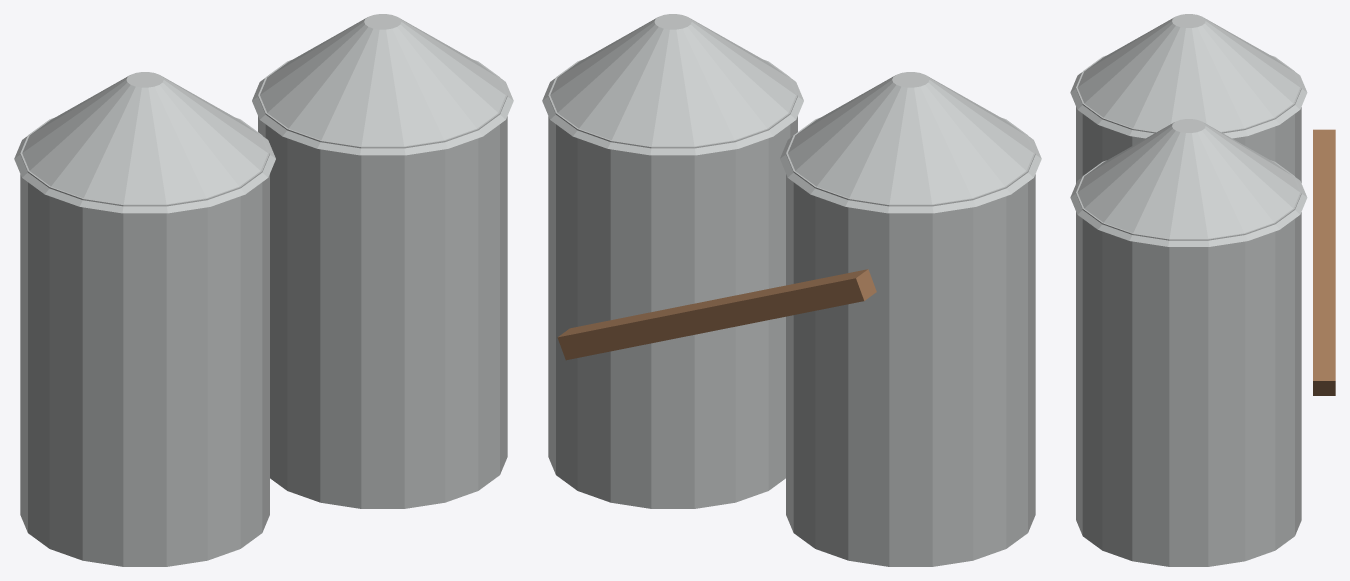
Rendered from MetalSilos.glb.
The picture shows the model from 3 angles, left to right: view 1: azimuth 30°, elevation 25°; view 2: azimuth 150°, elevation 25°; view 3: azimuth 270°, elevation 25°; orthographic projection. The views are drawn at different scales.
Visible parts, largest first — view 1: Grain bin, Grain bin.001, Bin roof, Bin roof.001; view 2: Grain bin, Grain bin.001, Bin roof, Bin roof.001, Auger; view 3: Grain bin.001, Bin roof.001, Bin roof, Auger, Grain bin.
Part boxes in pixels (x1,y1,x2,y2): Grain bin: [20, 117, 269, 566]; Grain bin.001: [258, 59, 507, 508]; Bin roof: [14, 72, 275, 213]; Bin roof.001: [252, 14, 513, 155]; Grain bin: [786, 117, 1035, 566]; Grain bin.001: [548, 59, 797, 508]; Bin roof: [780, 72, 1041, 213]; Bin roof.001: [542, 14, 803, 155]; Auger: [557, 269, 876, 360]; Grain bin.001: [1076, 160, 1301, 566]; Bin roof.001: [1070, 119, 1307, 246]; Bin roof: [1070, 14, 1307, 138]; Auger: [1313, 129, 1335, 395]; Grain bin: [1076, 55, 1301, 183].
Bounding box in the file's own units: 8.54 × 7.7 × 4.7.
